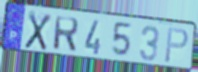3: (139, 25, 160, 62)
4: (84, 20, 102, 56)
5: (111, 21, 133, 59)
P: (163, 27, 190, 65)
R: (52, 15, 80, 54)
X: (23, 10, 53, 52)
